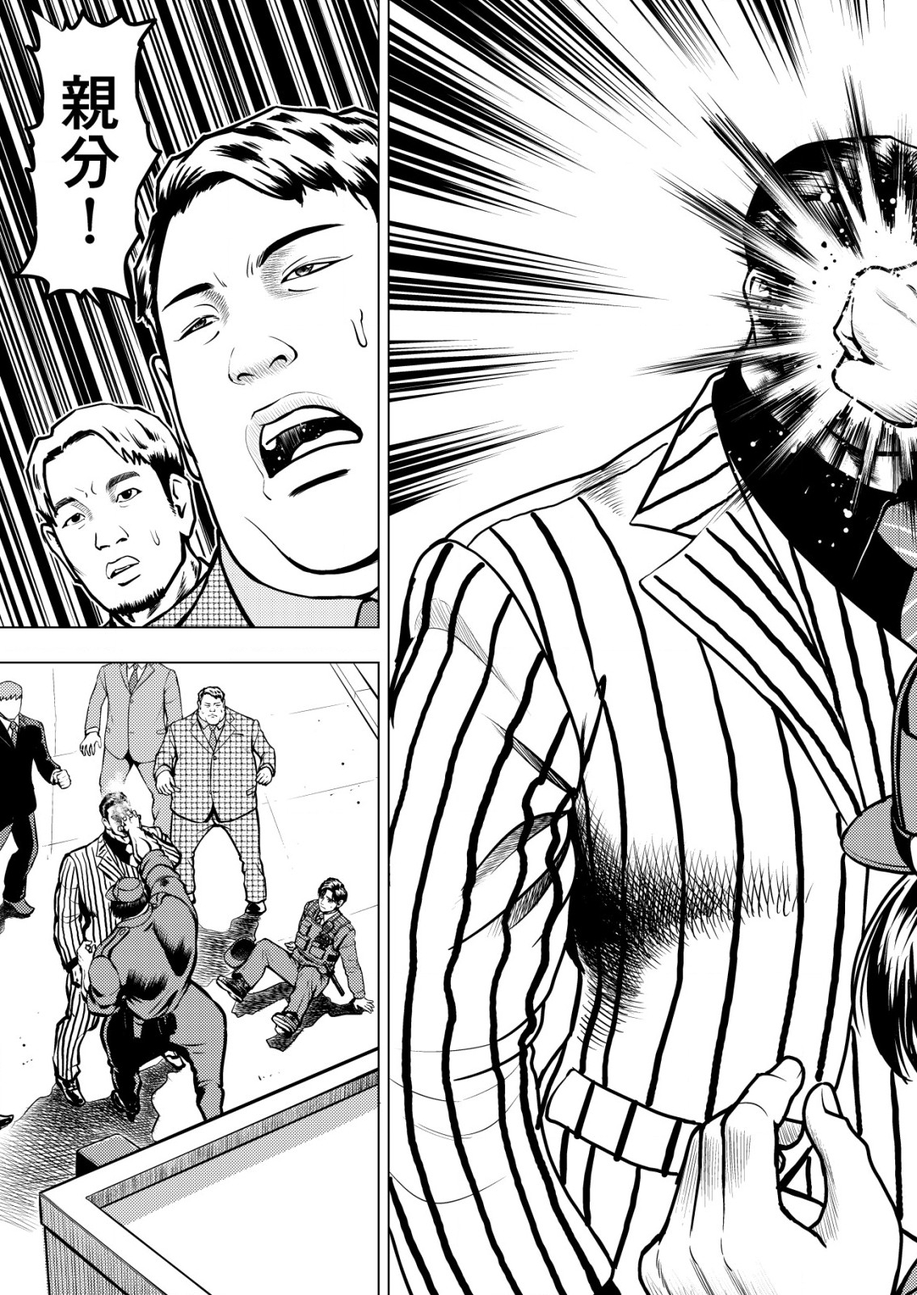bubbles: (15, 2, 166, 316)
